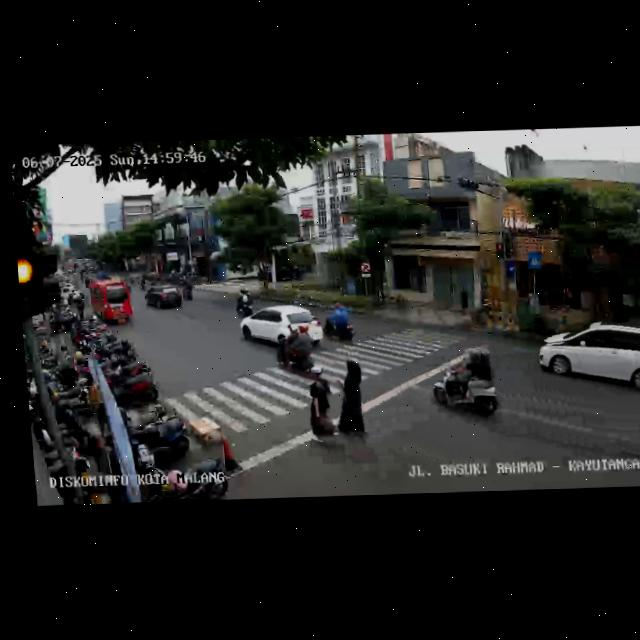car: (536, 319, 640, 399), (239, 304, 324, 350), (87, 279, 134, 326), (142, 282, 185, 314)
motorcycle: (429, 344, 502, 421), (273, 323, 319, 377), (322, 302, 355, 347), (233, 287, 253, 317), (183, 277, 193, 301)
person: (300, 369, 343, 455), (336, 357, 369, 445)
